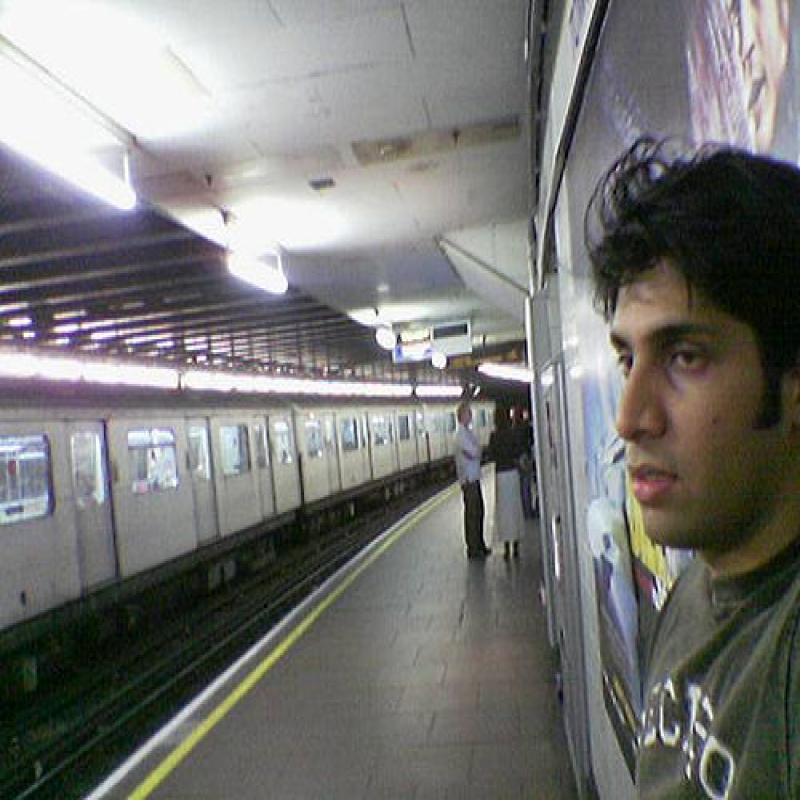train: (3, 342, 496, 703)
